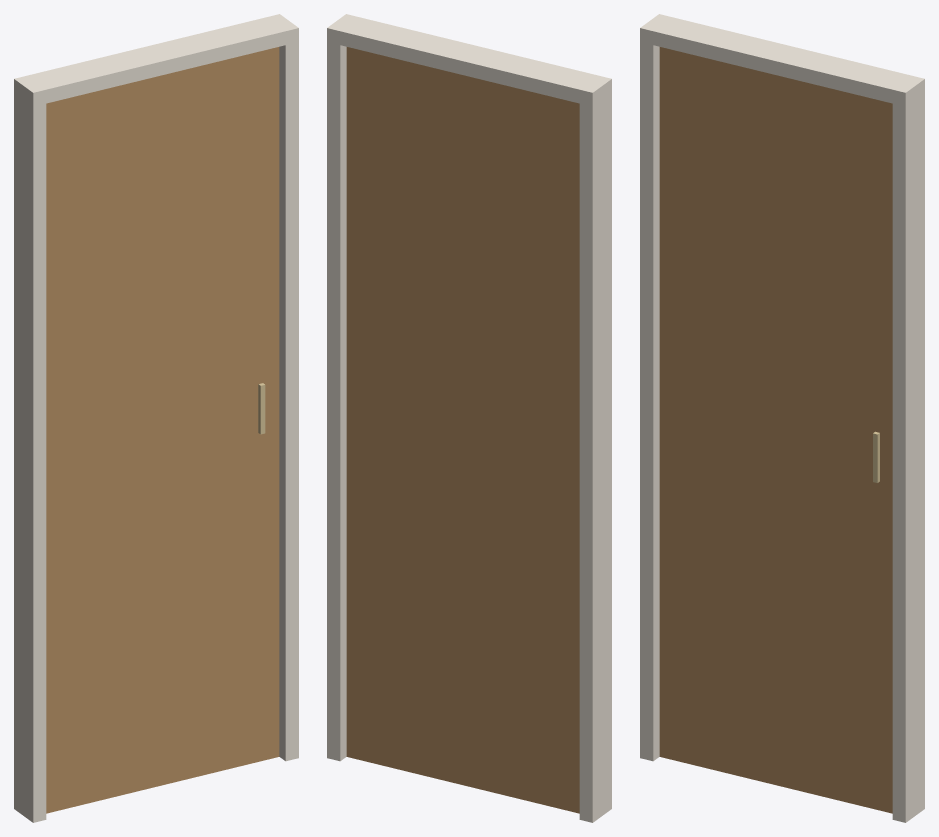
File: porta_80.obj
3 renders of one model, left to right at view 1: azimuth 30°, elevation 25°; view 2: azimuth 150°, elevation 25°; view 3: azimuth 330°, elevation 25°, orthographic.
Parts seen in each view (by area): view 1: porta_80; view 2: porta_80; view 3: porta_80.
Boxes of the visible parts, <box> form: porta_80: <box>14,14,298,822</box>; porta_80: <box>327,14,611,822</box>; porta_80: <box>640,14,924,822</box>.
Bounding box in the file's own units: 0.8 × 2.1 × 0.1.
